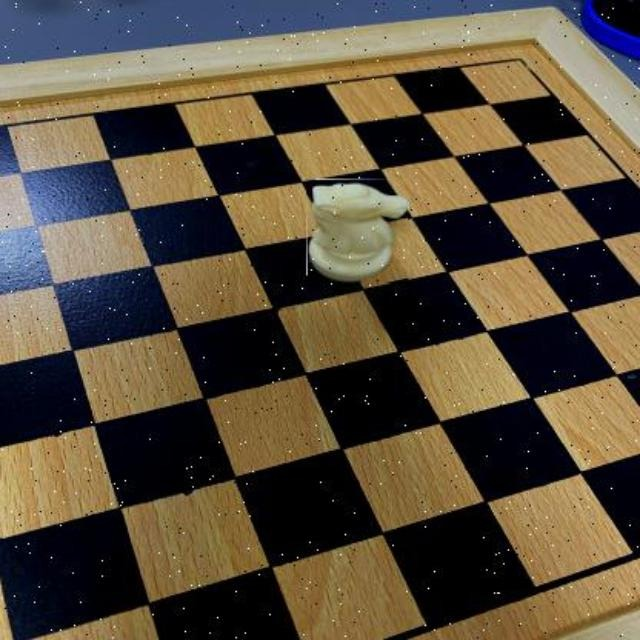white-knight: (306, 180, 409, 284)
